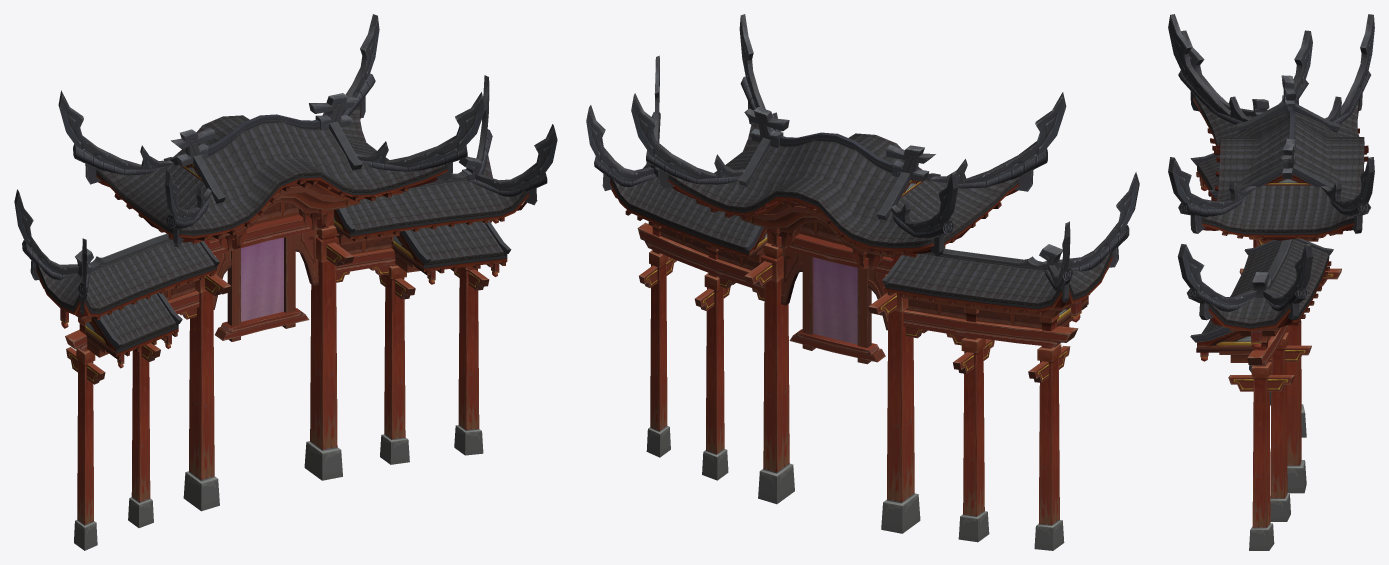
File: ZYbui_CLF_paifang02.FBX
3 renders of one model, left to right at view 1: azimuth 30°, elevation 25°; view 2: azimuth 150°, elevation 25°; view 3: azimuth 270°, elevation 25°, orthographic. The views are drawn at different scales.
Parts seen in each view (by area): view 1: ZYbui_CLF_paifang02; view 2: ZYbui_CLF_paifang02; view 3: ZYbui_CLF_paifang02.
Boxes of the visible parts, x1=… form: ZYbui_CLF_paifang02: x1=14, y1=14, x2=557, y2=550; ZYbui_CLF_paifang02: x1=586, y1=14, x2=1139, y2=550; ZYbui_CLF_paifang02: x1=1168, y1=14, x2=1374, y2=550.
Bounding box in the file's own units: 1456 × 1182 × 591.
